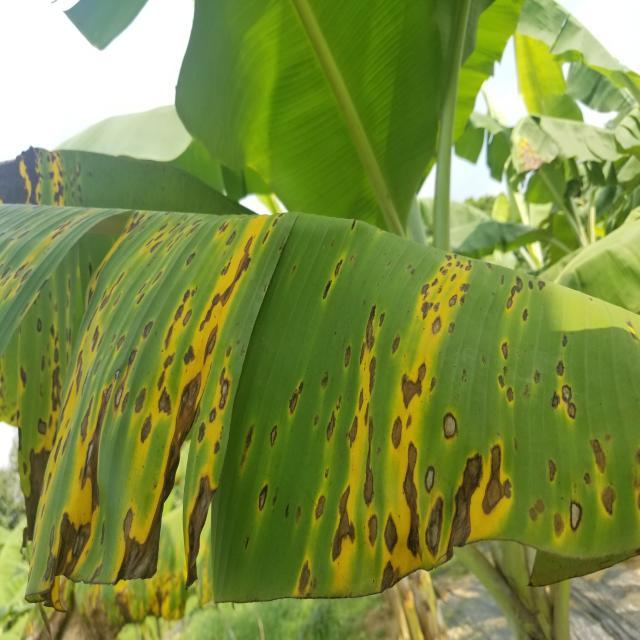Early_rust: (0, 196, 640, 608), (2, 135, 102, 203), (506, 124, 556, 185)
